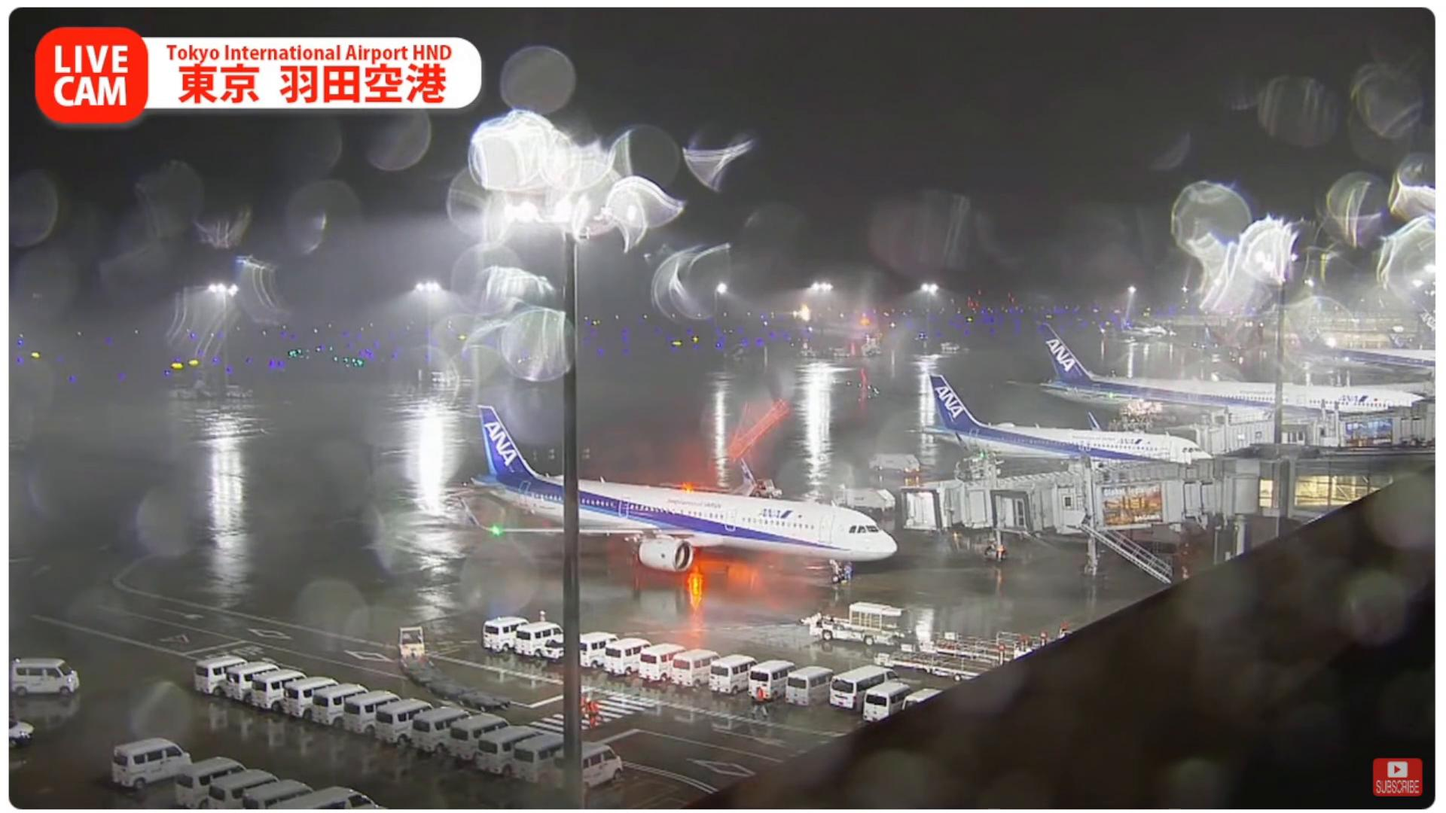Aerobridge: (897, 461, 1195, 534), (988, 472, 1227, 537)
Airplane: (456, 404, 898, 585)
Baggage truck: (831, 486, 897, 514)
Dolly: (660, 481, 754, 496)
JCPL: (874, 647, 1012, 682), (913, 631, 1059, 660)
Skyloader: (798, 598, 916, 647)
Tractor: (753, 476, 783, 500)
Window: (1291, 475, 1415, 508)
